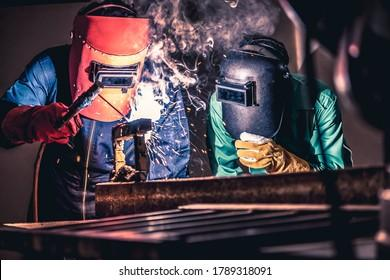gloves: (5, 104, 84, 145), (235, 132, 311, 173)
